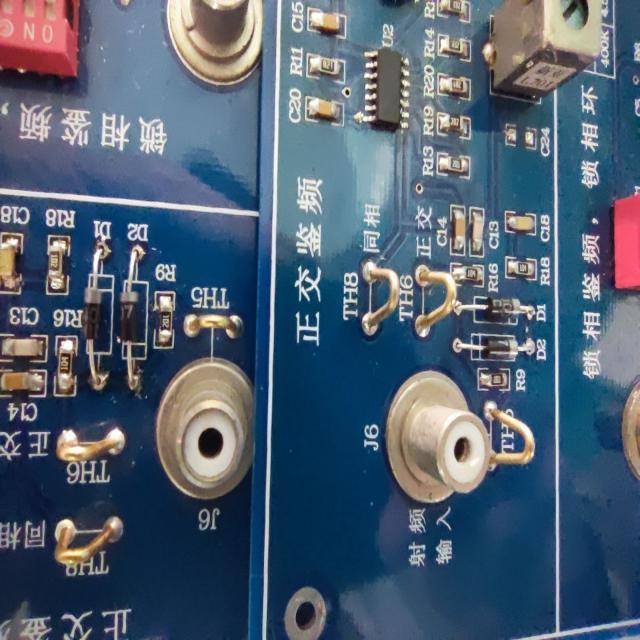Missing component: (502, 116, 554, 159)
